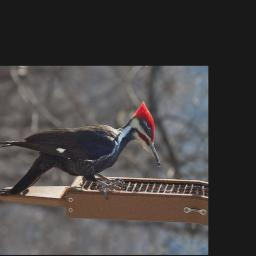Woodpecker: (0, 83, 169, 220)
